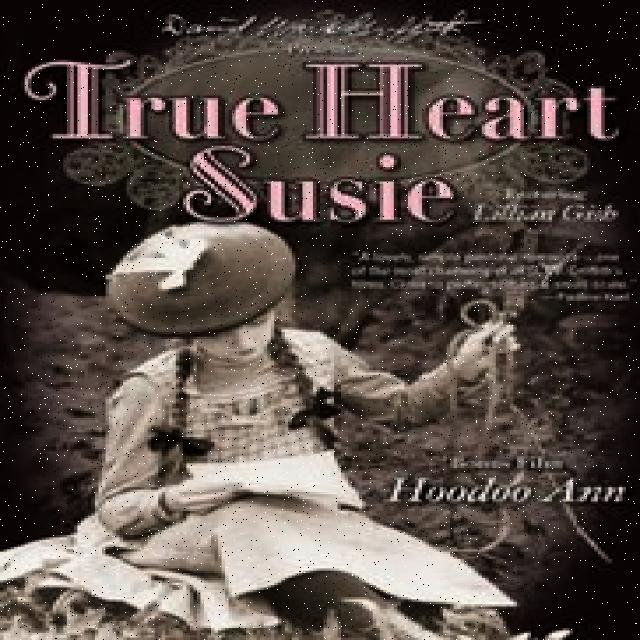movie-judul: (12, 56, 632, 227)
picture: (0, 217, 601, 639)
